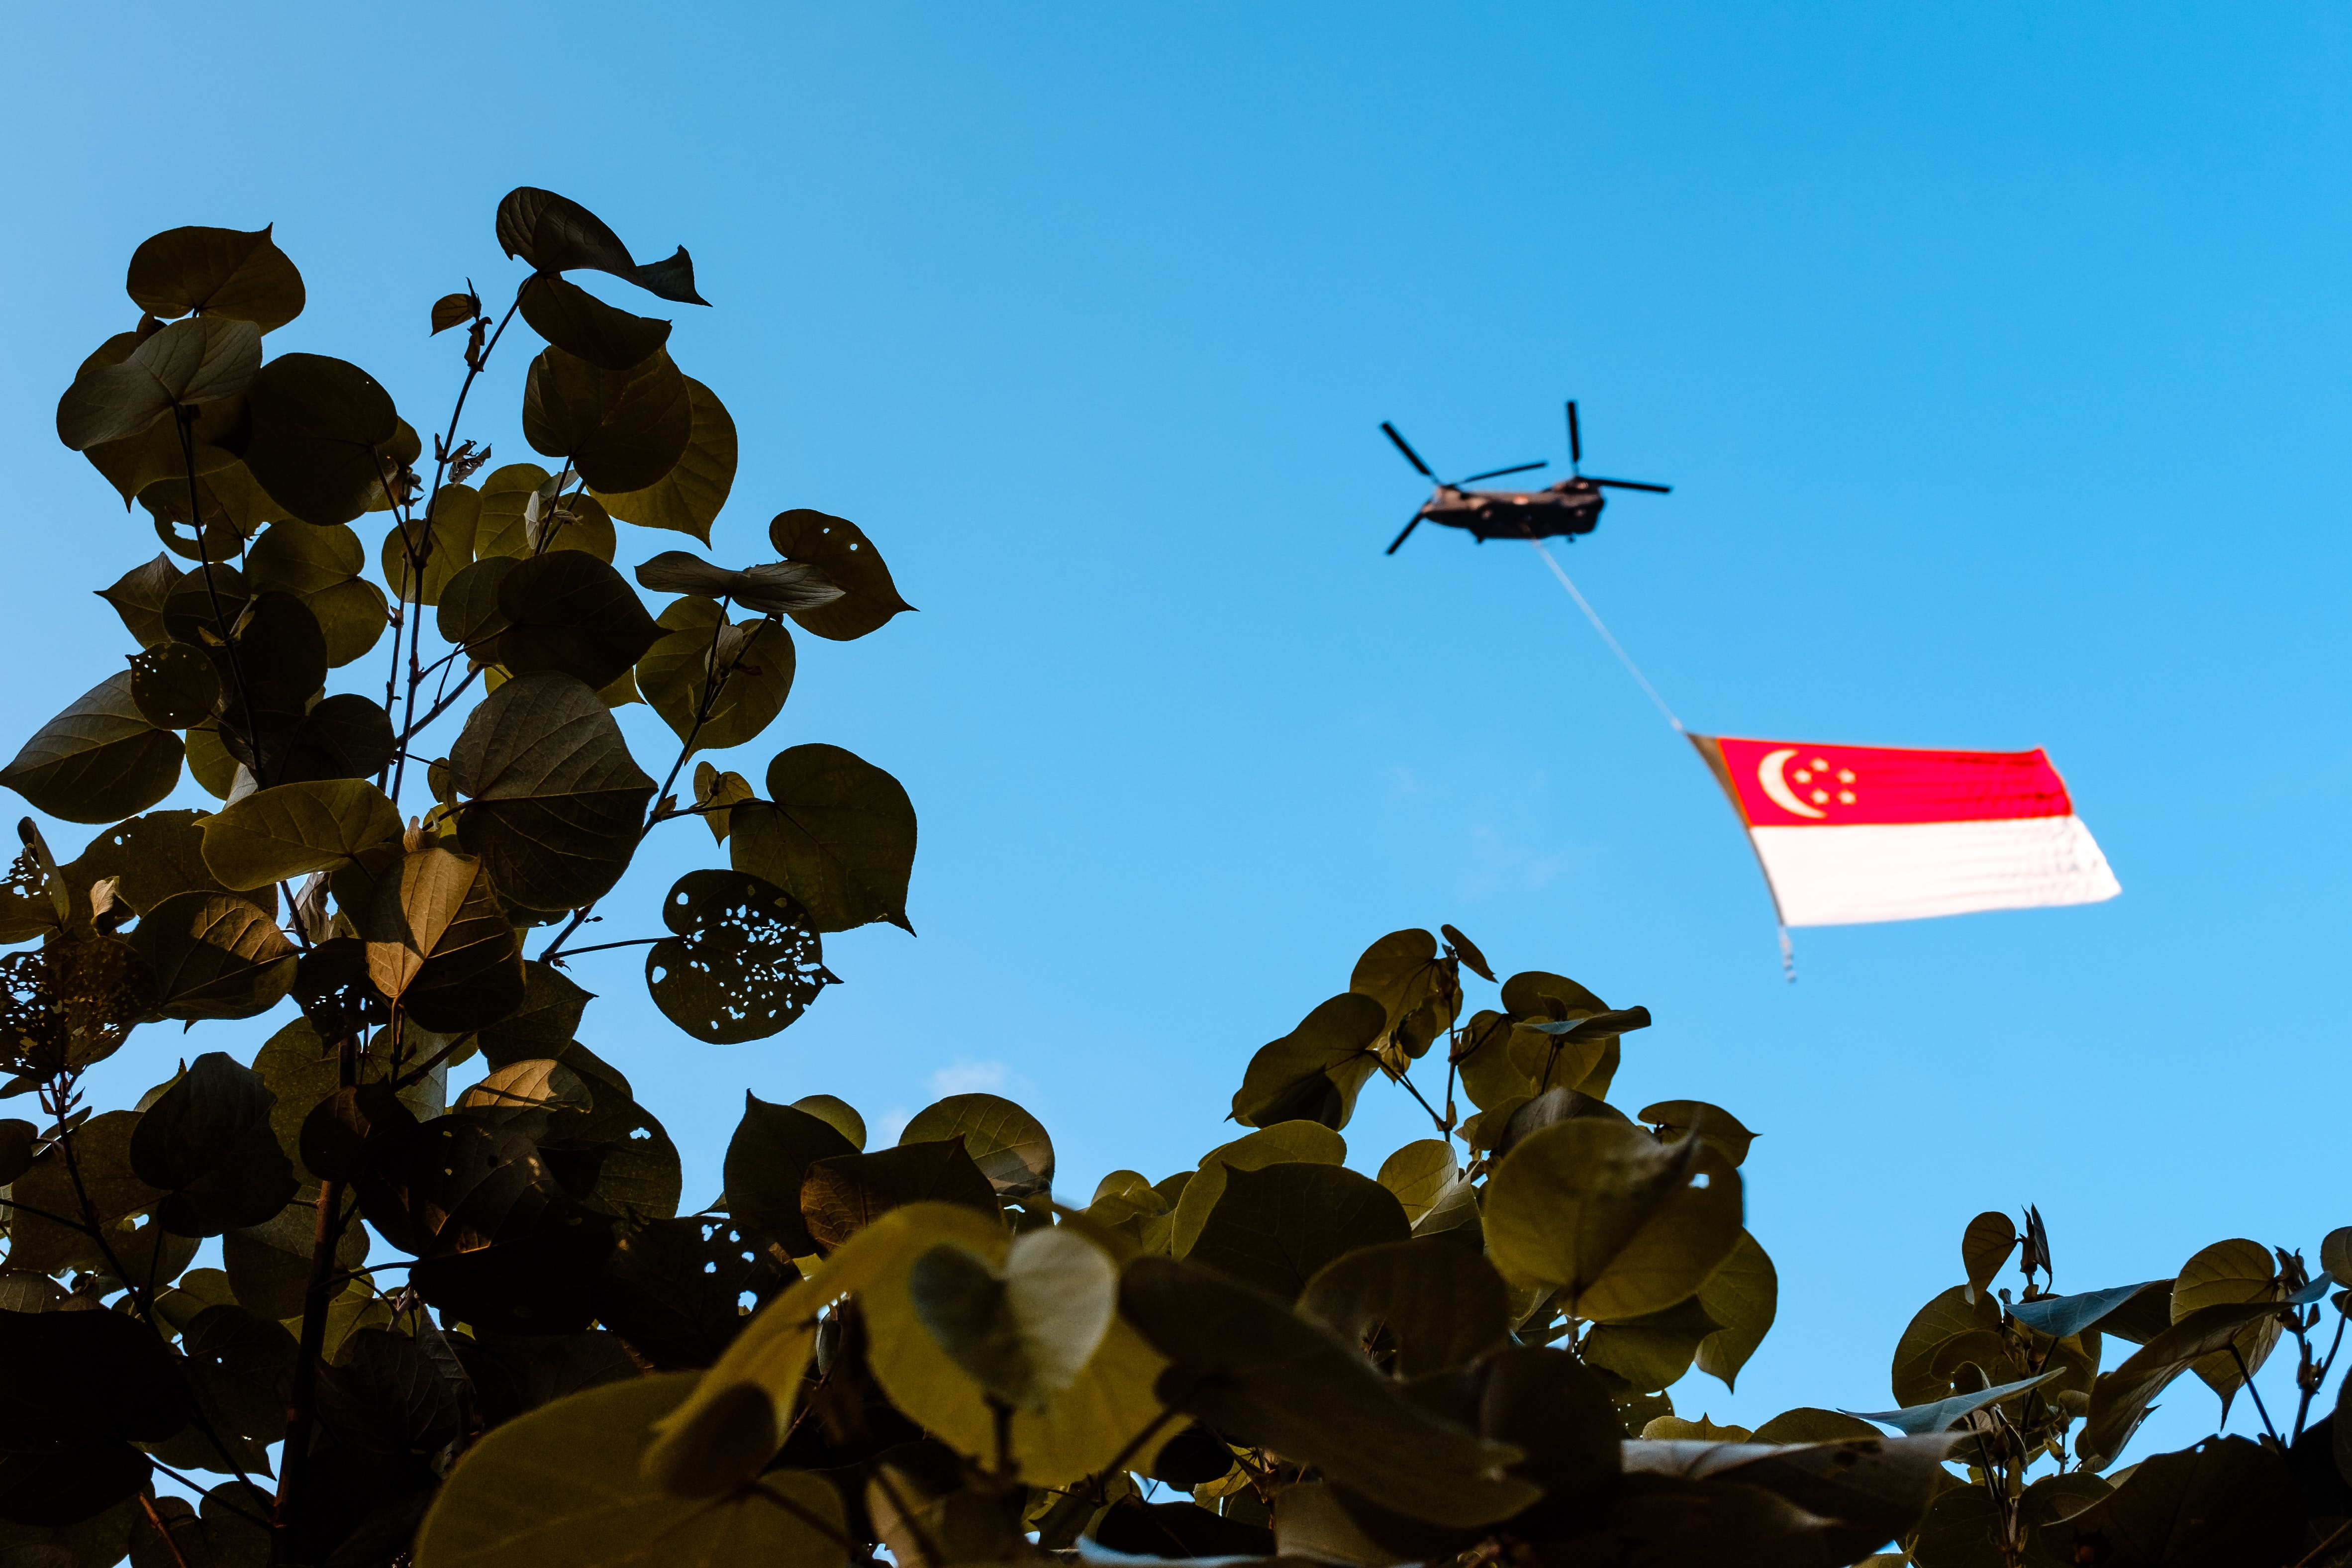Flag: (1687, 730, 2128, 924)
